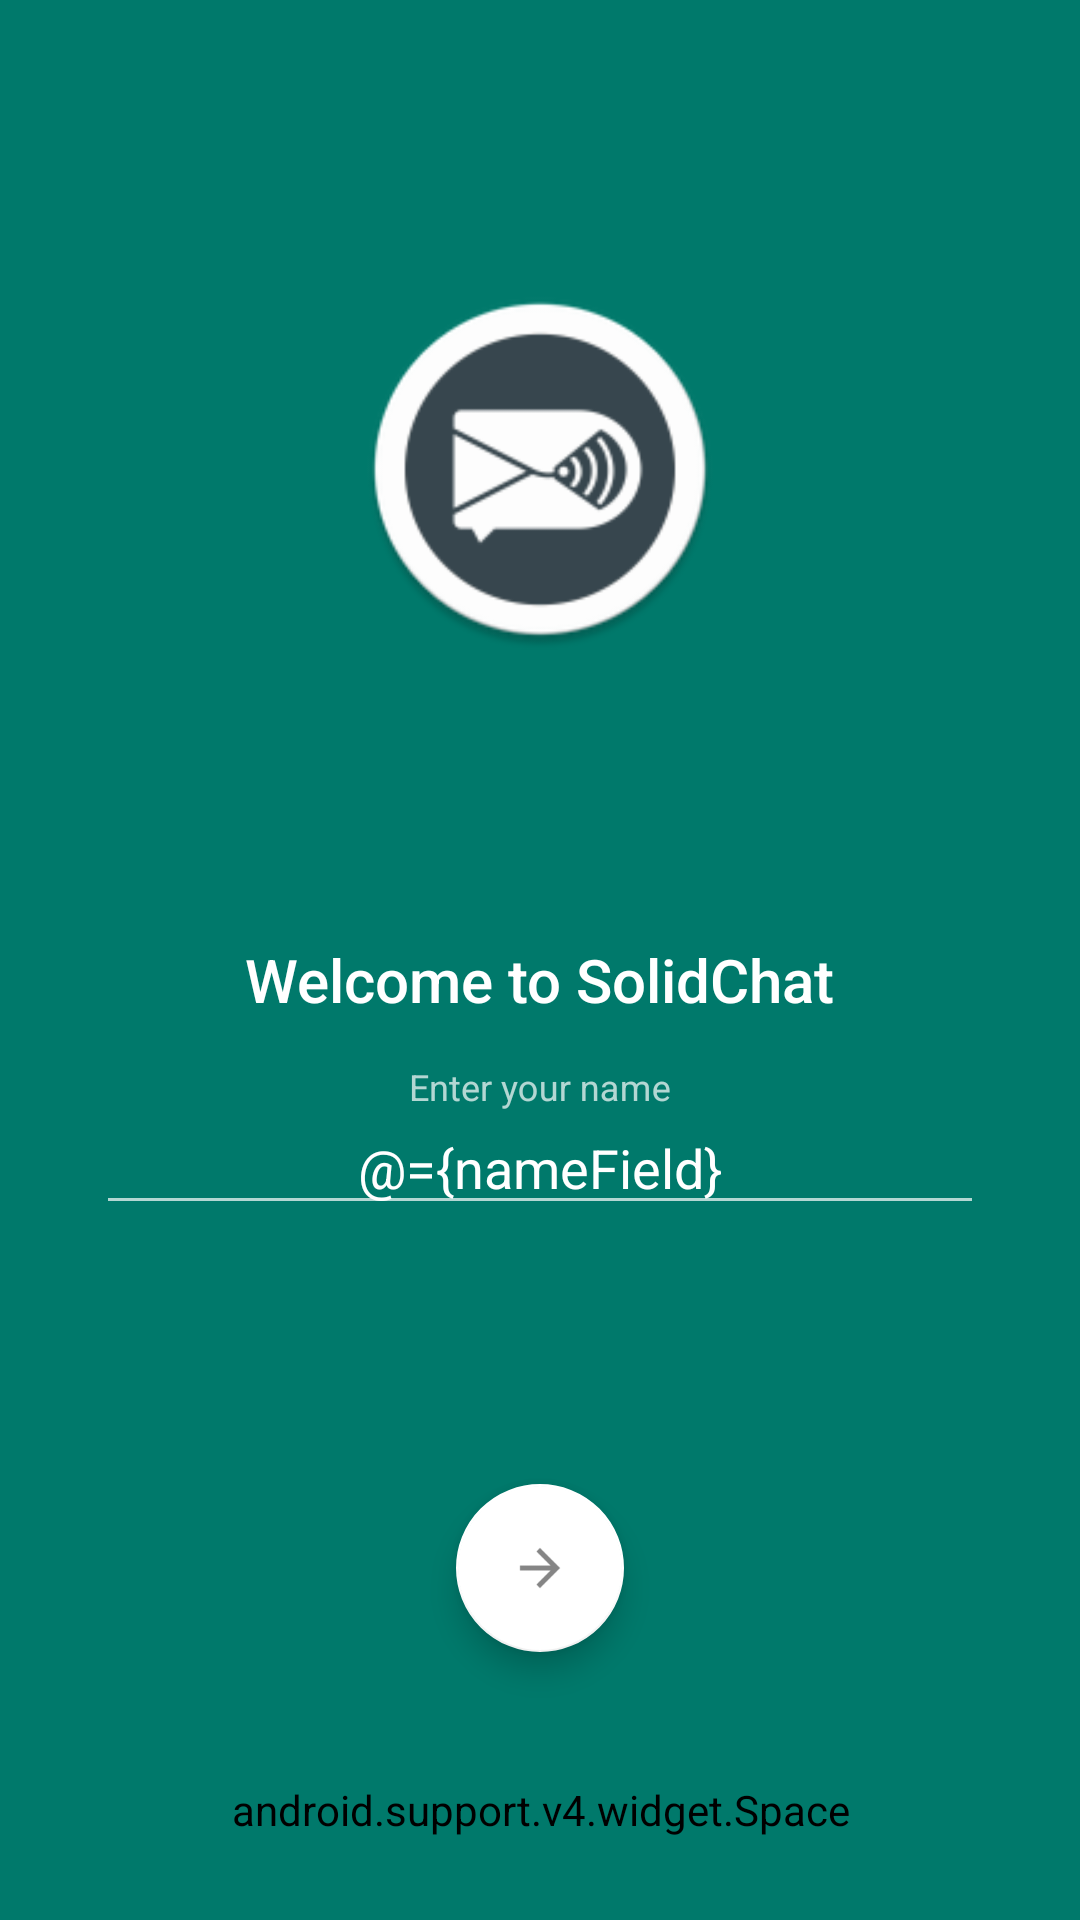

Named icons in this screenshot (1080 × 1920) and their bounding boxes, (x1, y1, x2, y2):
Login: (456, 1484, 624, 1652)
